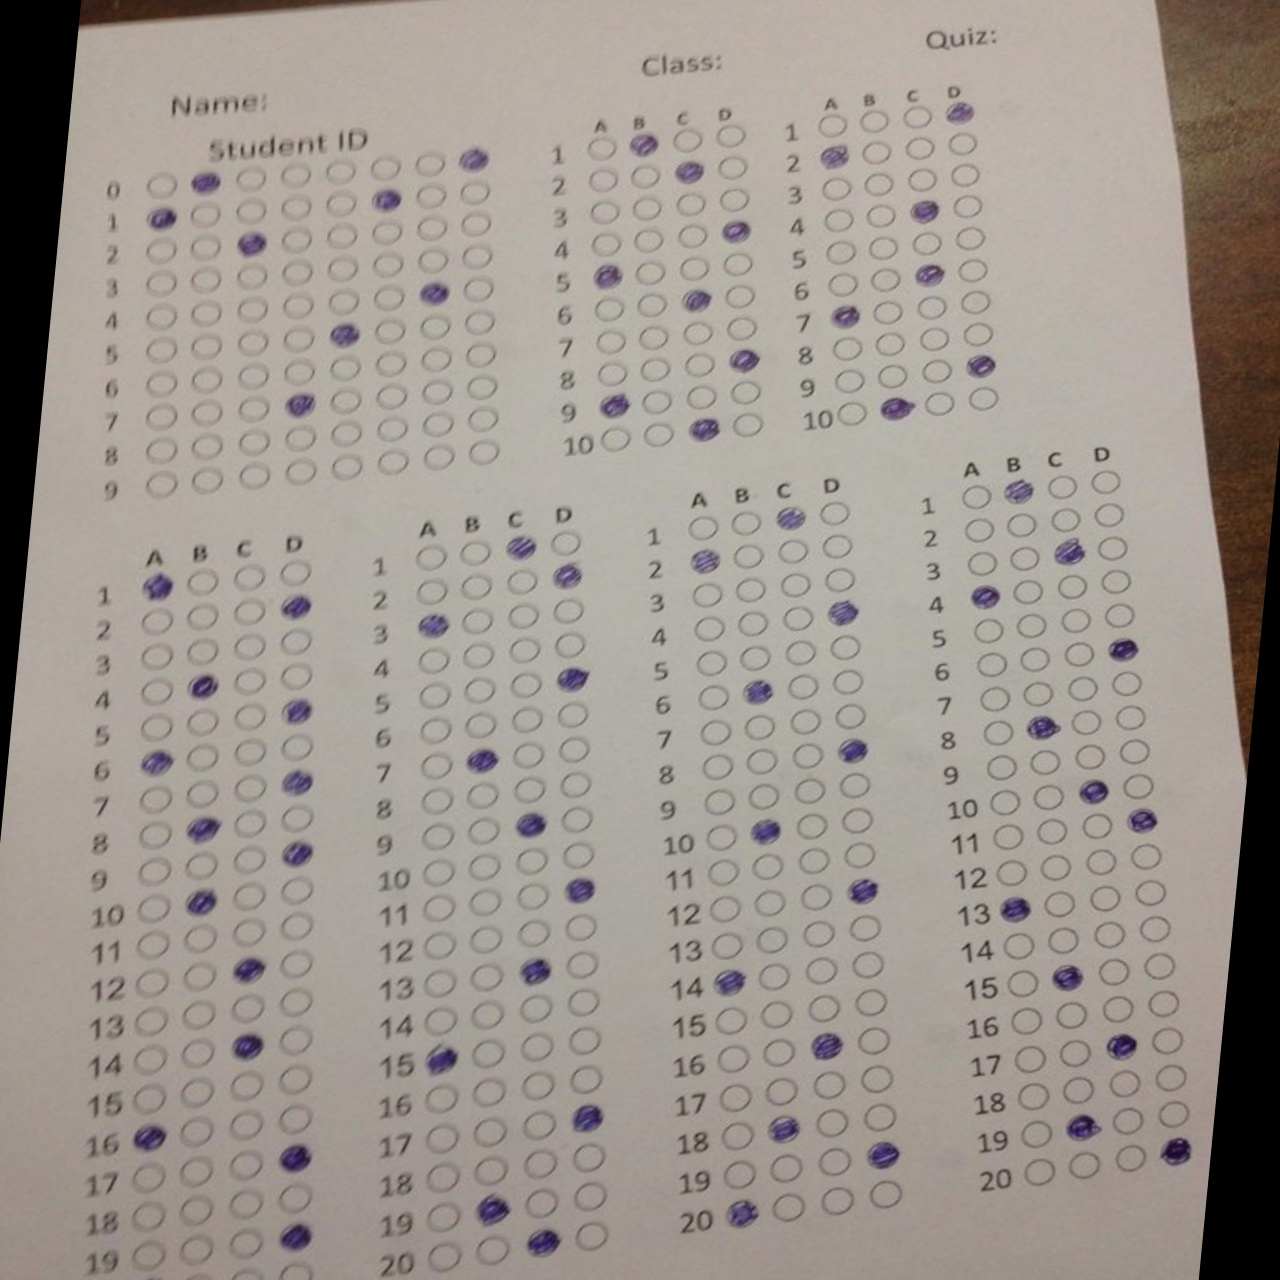not-c: (715, 1118, 757, 1152), (572, 1219, 613, 1253), (274, 987, 316, 1020), (567, 1141, 610, 1173), (815, 1185, 858, 1217), (812, 1108, 853, 1141), (225, 1152, 268, 1183), (229, 1070, 267, 1104), (1148, 1024, 1186, 1058), (520, 1148, 560, 1180), (132, 891, 173, 922), (853, 1024, 894, 1056), (274, 912, 316, 942), (226, 1110, 268, 1141), (416, 894, 458, 925), (568, 1180, 611, 1211), (860, 1063, 897, 1098), (178, 1156, 216, 1190), (125, 1165, 169, 1194), (275, 1107, 314, 1139), (468, 1116, 508, 1148), (275, 1185, 316, 1216), (422, 1201, 463, 1232), (738, 713, 779, 743), (836, 806, 877, 837), (813, 1146, 855, 1177), (175, 1235, 217, 1265), (798, 881, 837, 913), (765, 1153, 804, 1185), (998, 930, 1036, 961), (1137, 952, 1176, 983), (416, 822, 459, 850), (231, 774, 271, 804), (132, 967, 172, 998), (275, 951, 315, 981), (418, 858, 458, 888), (715, 1083, 755, 1114), (951, 223, 990, 253), (128, 1006, 169, 1035), (176, 1080, 220, 1107), (1012, 1041, 1047, 1075), (230, 917, 266, 949), (550, 629, 587, 661), (508, 672, 545, 703), (512, 774, 550, 805), (181, 961, 219, 992), (277, 1029, 315, 1060), (519, 1110, 558, 1141), (795, 846, 833, 877), (846, 915, 885, 946), (1116, 735, 1155, 765), (1125, 843, 1164, 873), (456, 245, 499, 272), (222, 1232, 265, 1259), (561, 915, 601, 945), (862, 1103, 903, 1131), (1144, 990, 1185, 1019), (188, 200, 224, 232), (709, 931, 745, 962), (1061, 1075, 1097, 1107), (559, 769, 597, 799), (421, 932, 458, 962), (515, 920, 552, 951), (518, 1032, 556, 1062), (986, 788, 1023, 818), (692, 683, 734, 710), (137, 783, 176, 812), (278, 877, 316, 906), (125, 1085, 164, 1115), (459, 678, 498, 707), (803, 955, 842, 985), (1055, 1039, 1094, 1068), (143, 171, 183, 199), (462, 372, 502, 400), (176, 1041, 216, 1069), (513, 883, 553, 911), (760, 1078, 799, 1107), (1104, 1070, 1144, 1098), (1153, 1064, 1193, 1092), (229, 1187, 264, 1219), (567, 1024, 602, 1056), (424, 1084, 459, 1116), (867, 1179, 903, 1211), (1032, 782, 1067, 813), (184, 777, 220, 808), (468, 927, 504, 958), (471, 1040, 508, 1070), (471, 1155, 508, 1185), (753, 890, 789, 920), (760, 999, 796, 1029), (966, 382, 1002, 413), (1008, 544, 1044, 574), (1022, 679, 1058, 709), (990, 822, 1027, 852), (1036, 853, 1073, 884), (414, 753, 455, 779), (515, 993, 556, 1020), (135, 930, 172, 959), (504, 602, 542, 632), (510, 741, 547, 770), (561, 949, 599, 979), (1092, 501, 1130, 530), (1044, 927, 1082, 956), (142, 336, 181, 365), (141, 440, 183, 465), (190, 433, 229, 461), (234, 429, 273, 457), (129, 1046, 168, 1074), (416, 789, 458, 815), (427, 1241, 465, 1269), (697, 753, 736, 781), (978, 719, 1016, 747), (1001, 971, 1040, 999), (141, 238, 181, 265), (461, 642, 501, 669), (508, 707, 547, 734), (554, 738, 594, 765), (467, 1002, 506, 1029), (522, 1189, 561, 1216), (693, 719, 733, 745), (1071, 743, 1111, 770), (1005, 1007, 1044, 1034), (805, 995, 840, 1026), (1016, 1082, 1051, 1112), (413, 151, 449, 181), (281, 358, 318, 387), (549, 597, 585, 626), (471, 1080, 508, 1109), (423, 1165, 459, 1194), (231, 703, 268, 731), (278, 806, 315, 835), (184, 852, 222, 880), (560, 805, 598, 833), (467, 888, 504, 917), (423, 1007, 461, 1035), (592, 359, 629, 387), (776, 571, 813, 599), (700, 789, 737, 817), (840, 845, 878, 873), (852, 989, 890, 1017), (942, 131, 980, 159), (1089, 921, 1126, 949), (1156, 1099, 1193, 1128), (368, 286, 407, 313), (181, 927, 219, 954), (465, 818, 504, 845), (565, 990, 604, 1017), (712, 123, 750, 150), (799, 922, 838, 949), (809, 1073, 847, 1099), (863, 236, 901, 263), (278, 1065, 311, 1097), (139, 821, 173, 851), (840, 769, 874, 799), (707, 823, 741, 853), (282, 424, 318, 454), (233, 883, 268, 912), (179, 1116, 215, 1145), (177, 1196, 212, 1225), (1087, 885, 1122, 914), (188, 401, 227, 427), (636, 388, 676, 414), (919, 392, 959, 417), (1094, 959, 1133, 985), (369, 253, 406, 281), (236, 397, 272, 425), (375, 382, 411, 410), (331, 420, 367, 448), (136, 855, 172, 883), (817, 501, 853, 529), (857, 107, 893, 135), (1102, 995, 1138, 1023), (1019, 1121, 1055, 1149), (372, 350, 409, 377), (137, 644, 175, 670), (184, 638, 222, 665), (184, 745, 222, 772), (181, 1003, 218, 1030), (229, 994, 266, 1021), (461, 712, 498, 738), (421, 1126, 458, 1153), (749, 855, 787, 881), (712, 1008, 749, 1035), (771, 1194, 809, 1221), (920, 358, 958, 384), (972, 651, 1009, 678), (1108, 670, 1145, 697), (1051, 1001, 1089, 1028), (733, 612, 774, 636), (828, 370, 869, 395), (1085, 470, 1126, 495), (680, 319, 713, 349), (717, 1042, 750, 1073), (278, 164, 316, 190), (277, 198, 315, 224), (142, 472, 181, 498), (510, 847, 549, 873), (420, 971, 458, 996), (518, 1073, 557, 1098), (721, 284, 760, 309), (818, 535, 857, 560), (821, 207, 859, 233), (1068, 710, 1107, 736), (632, 292, 666, 321), (835, 702, 869, 731), (1133, 878, 1167, 907), (1138, 915, 1172, 945), (568, 1065, 604, 1094), (721, 252, 756, 280), (791, 778, 826, 806), (721, 1162, 756, 1190), (142, 407, 182, 431), (136, 611, 176, 635), (188, 268, 224, 295), (325, 256, 361, 282), (416, 248, 452, 275), (281, 293, 318, 320), (418, 411, 455, 438), (280, 558, 316, 585), (476, 1235, 512, 1262), (757, 964, 794, 990), (1121, 772, 1157, 799), (1067, 1152, 1103, 1179), (143, 373, 181, 399), (281, 458, 319, 484), (633, 229, 670, 254), (850, 952, 887, 978), (762, 1040, 799, 1065), (964, 551, 1001, 577), (1095, 537, 1132, 563), (1040, 892, 1077, 918), (835, 667, 866, 697), (1116, 1143, 1148, 1173), (1064, 640, 1097, 669), (188, 234, 222, 263), (462, 277, 496, 305), (234, 597, 268, 625), (234, 633, 268, 661), (561, 840, 595, 869), (745, 747, 779, 775), (707, 860, 741, 888), (756, 928, 790, 956), (900, 103, 934, 131), (1013, 610, 1047, 638), (1058, 607, 1092, 635), (1035, 818, 1069, 846), (1083, 850, 1117, 878), (455, 542, 493, 566), (467, 406, 502, 433), (186, 708, 222, 735), (234, 812, 270, 839), (461, 608, 496, 635), (465, 855, 501, 881), (468, 964, 503, 990), (673, 192, 708, 219), (715, 188, 750, 215), (823, 567, 858, 594), (901, 136, 937, 163), (860, 173, 896, 200), (961, 324, 996, 350), (130, 1244, 166, 1269), (546, 530, 583, 556), (591, 297, 627, 322), (685, 386, 721, 411), (778, 607, 815, 633), (782, 641, 818, 667), (790, 744, 826, 770), (744, 783, 781, 809), (794, 815, 830, 840), (812, 113, 849, 138), (556, 702, 587, 731), (422, 379, 455, 407), (331, 452, 363, 481), (232, 740, 270, 764), (822, 239, 859, 264), (908, 232, 946, 257), (324, 191, 358, 218), (328, 288, 362, 315), (374, 319, 408, 346), (467, 783, 501, 810), (688, 515, 722, 542), (731, 544, 765, 571), (694, 651, 728, 678), (958, 288, 992, 315), (1114, 704, 1148, 731), (1111, 1108, 1145, 1135), (233, 166, 268, 192), (325, 356, 360, 382), (422, 444, 457, 470), (411, 580, 447, 606), (639, 424, 678, 448), (972, 618, 1007, 644), (365, 157, 401, 182), (281, 326, 318, 350), (236, 464, 272, 489), (375, 451, 411, 476), (280, 629, 316, 654), (232, 670, 268, 695), (416, 717, 452, 742), (818, 175, 855, 199), (864, 205, 900, 230), (869, 299, 905, 324), (975, 687, 1012, 712), (712, 894, 742, 924), (636, 326, 668, 354), (1107, 601, 1138, 629), (328, 389, 361, 416), (279, 663, 312, 690), (418, 646, 451, 673), (591, 230, 624, 257), (959, 483, 992, 510), (411, 188, 449, 211), (138, 680, 176, 703), (190, 301, 224, 327), (236, 299, 270, 325), (191, 334, 225, 360), (190, 369, 224, 395), (186, 570, 220, 595), (185, 604, 219, 629), (414, 546, 448, 572), (508, 639, 542, 665), (716, 155, 750, 181), (726, 315, 760, 341), (733, 411, 767, 437), (776, 539, 810, 565), (734, 578, 768, 604), (694, 617, 728, 642), (828, 635, 862, 661), (874, 331, 908, 356), (1051, 506, 1085, 532), (995, 859, 1029, 885), (234, 847, 270, 872), (599, 428, 634, 452), (690, 585, 726, 610), (905, 168, 940, 192), (948, 164, 983, 189), (1084, 811, 1114, 840), (791, 708, 822, 736), (282, 259, 314, 286), (421, 345, 452, 372), (461, 574, 492, 601), (683, 353, 715, 380), (1030, 750, 1062, 777), (629, 261, 666, 285), (464, 309, 497, 335), (237, 365, 270, 390), (130, 1203, 163, 1228), (506, 570, 539, 595), (629, 164, 662, 190), (859, 141, 892, 166), (952, 193, 985, 219), (919, 328, 952, 354), (986, 755, 1019, 781), (275, 1260, 318, 1280), (588, 329, 628, 350), (324, 226, 358, 251), (459, 215, 493, 239), (145, 308, 179, 333), (418, 318, 452, 342), (233, 566, 267, 591), (139, 715, 173, 740), (787, 674, 821, 699), (829, 336, 863, 361), (874, 365, 908, 389), (964, 517, 998, 542), (1099, 570, 1133, 594), (1065, 678, 1099, 702), (1022, 1160, 1056, 1185), (587, 199, 622, 223), (632, 198, 667, 222), (1044, 476, 1080, 499), (1005, 515, 1040, 538), (1055, 576, 1090, 599), (676, 223, 707, 250), (679, 256, 709, 282), (585, 134, 617, 159), (738, 645, 770, 670), (1019, 648, 1050, 674), (459, 182, 496, 204), (1010, 581, 1047, 604), (233, 202, 266, 226), (369, 223, 402, 247), (672, 130, 704, 155), (584, 170, 617, 195), (234, 266, 268, 290), (465, 342, 499, 366), (416, 685, 450, 708), (636, 358, 670, 381), (956, 259, 990, 282), (190, 470, 225, 492), (836, 403, 871, 425), (324, 161, 355, 185), (281, 736, 313, 761), (731, 381, 763, 406), (730, 512, 762, 537), (917, 297, 948, 321), (376, 416, 409, 440), (469, 443, 502, 467), (869, 270, 903, 292), (145, 273, 175, 299), (238, 332, 267, 356), (416, 218, 445, 241), (281, 231, 312, 253), (826, 272, 858, 293), (229, 1266, 266, 1280), (178, 1272, 219, 1280)
taken-c: (471, 1193, 512, 1228), (421, 1043, 462, 1078), (721, 1197, 764, 1230), (275, 1220, 316, 1254), (135, 747, 178, 778), (515, 955, 554, 989), (862, 1138, 903, 1171), (583, 264, 628, 293), (1001, 477, 1043, 509), (510, 811, 553, 842), (1105, 1032, 1143, 1067), (1050, 535, 1089, 568), (182, 815, 223, 846), (806, 1032, 845, 1064), (277, 838, 316, 870), (763, 1114, 803, 1145), (275, 697, 316, 728), (1159, 1135, 1197, 1167), (130, 1122, 169, 1153), (277, 1142, 315, 1173), (523, 1228, 561, 1260), (1047, 964, 1088, 993), (278, 768, 315, 799), (455, 144, 493, 175), (137, 573, 177, 602), (1121, 805, 1160, 835), (812, 142, 853, 170), (568, 1102, 605, 1133), (184, 670, 222, 701), (560, 874, 598, 905), (1023, 712, 1061, 742), (277, 593, 315, 622), (823, 600, 862, 629), (747, 818, 785, 847), (962, 353, 1001, 382), (232, 229, 268, 259), (845, 877, 881, 907), (184, 170, 225, 197), (229, 1032, 266, 1061), (415, 612, 452, 641), (1108, 634, 1145, 663), (832, 736, 871, 764), (1064, 1114, 1099, 1144), (369, 188, 406, 217), (416, 280, 454, 308), (184, 887, 222, 915), (463, 748, 501, 776), (710, 969, 748, 998), (669, 158, 707, 186), (502, 535, 540, 561), (625, 131, 663, 158), (964, 586, 1002, 613), (550, 563, 585, 592), (740, 678, 776, 706), (597, 392, 633, 420), (945, 98, 981, 127), (281, 392, 319, 418), (687, 549, 724, 576), (908, 197, 946, 224), (231, 956, 266, 985), (995, 896, 1032, 922), (686, 417, 723, 443), (911, 260, 948, 286), (143, 206, 178, 233), (679, 290, 714, 316), (327, 322, 363, 348), (554, 667, 591, 693), (774, 506, 808, 533), (728, 347, 762, 373), (719, 218, 753, 244), (828, 306, 862, 332), (879, 396, 915, 420), (1080, 781, 1112, 805), (130, 1276, 168, 1280)
